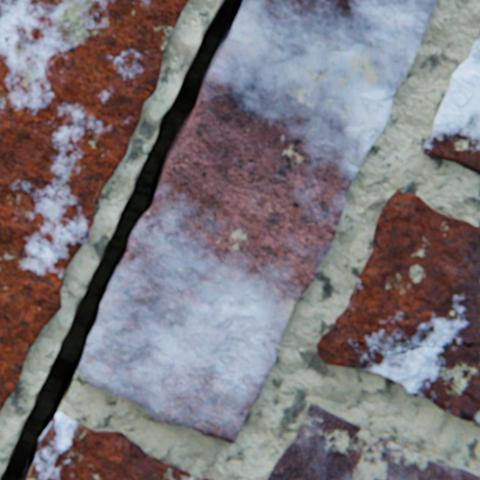brick: (78, 0, 436, 441), (0, 0, 188, 412), (316, 189, 479, 421), (267, 402, 479, 479), (27, 411, 209, 479), (422, 31, 479, 174)
crack: (0, 0, 242, 479), (352, 340, 420, 354), (445, 136, 479, 145), (423, 341, 450, 346), (453, 341, 473, 346)
